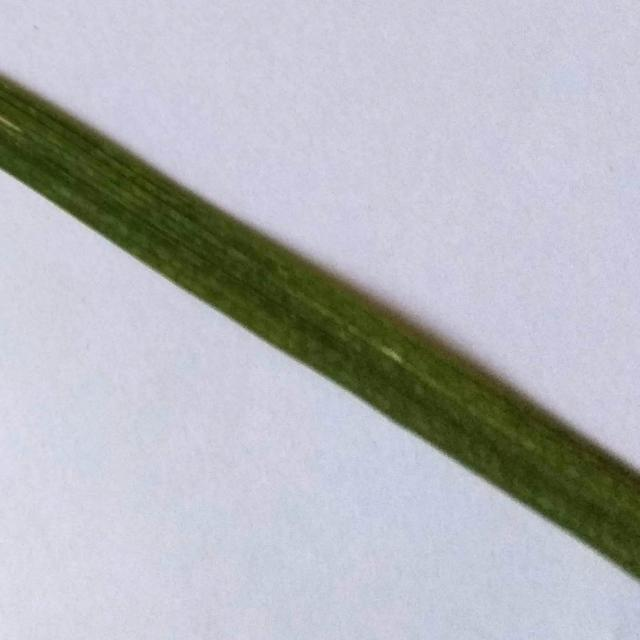Rice_Healthy: (0, 74, 640, 579)
